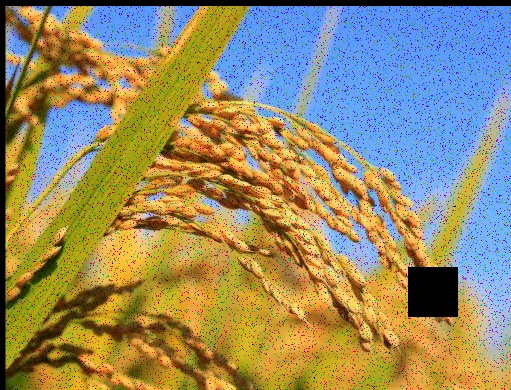rice: (23, 29, 464, 364)
